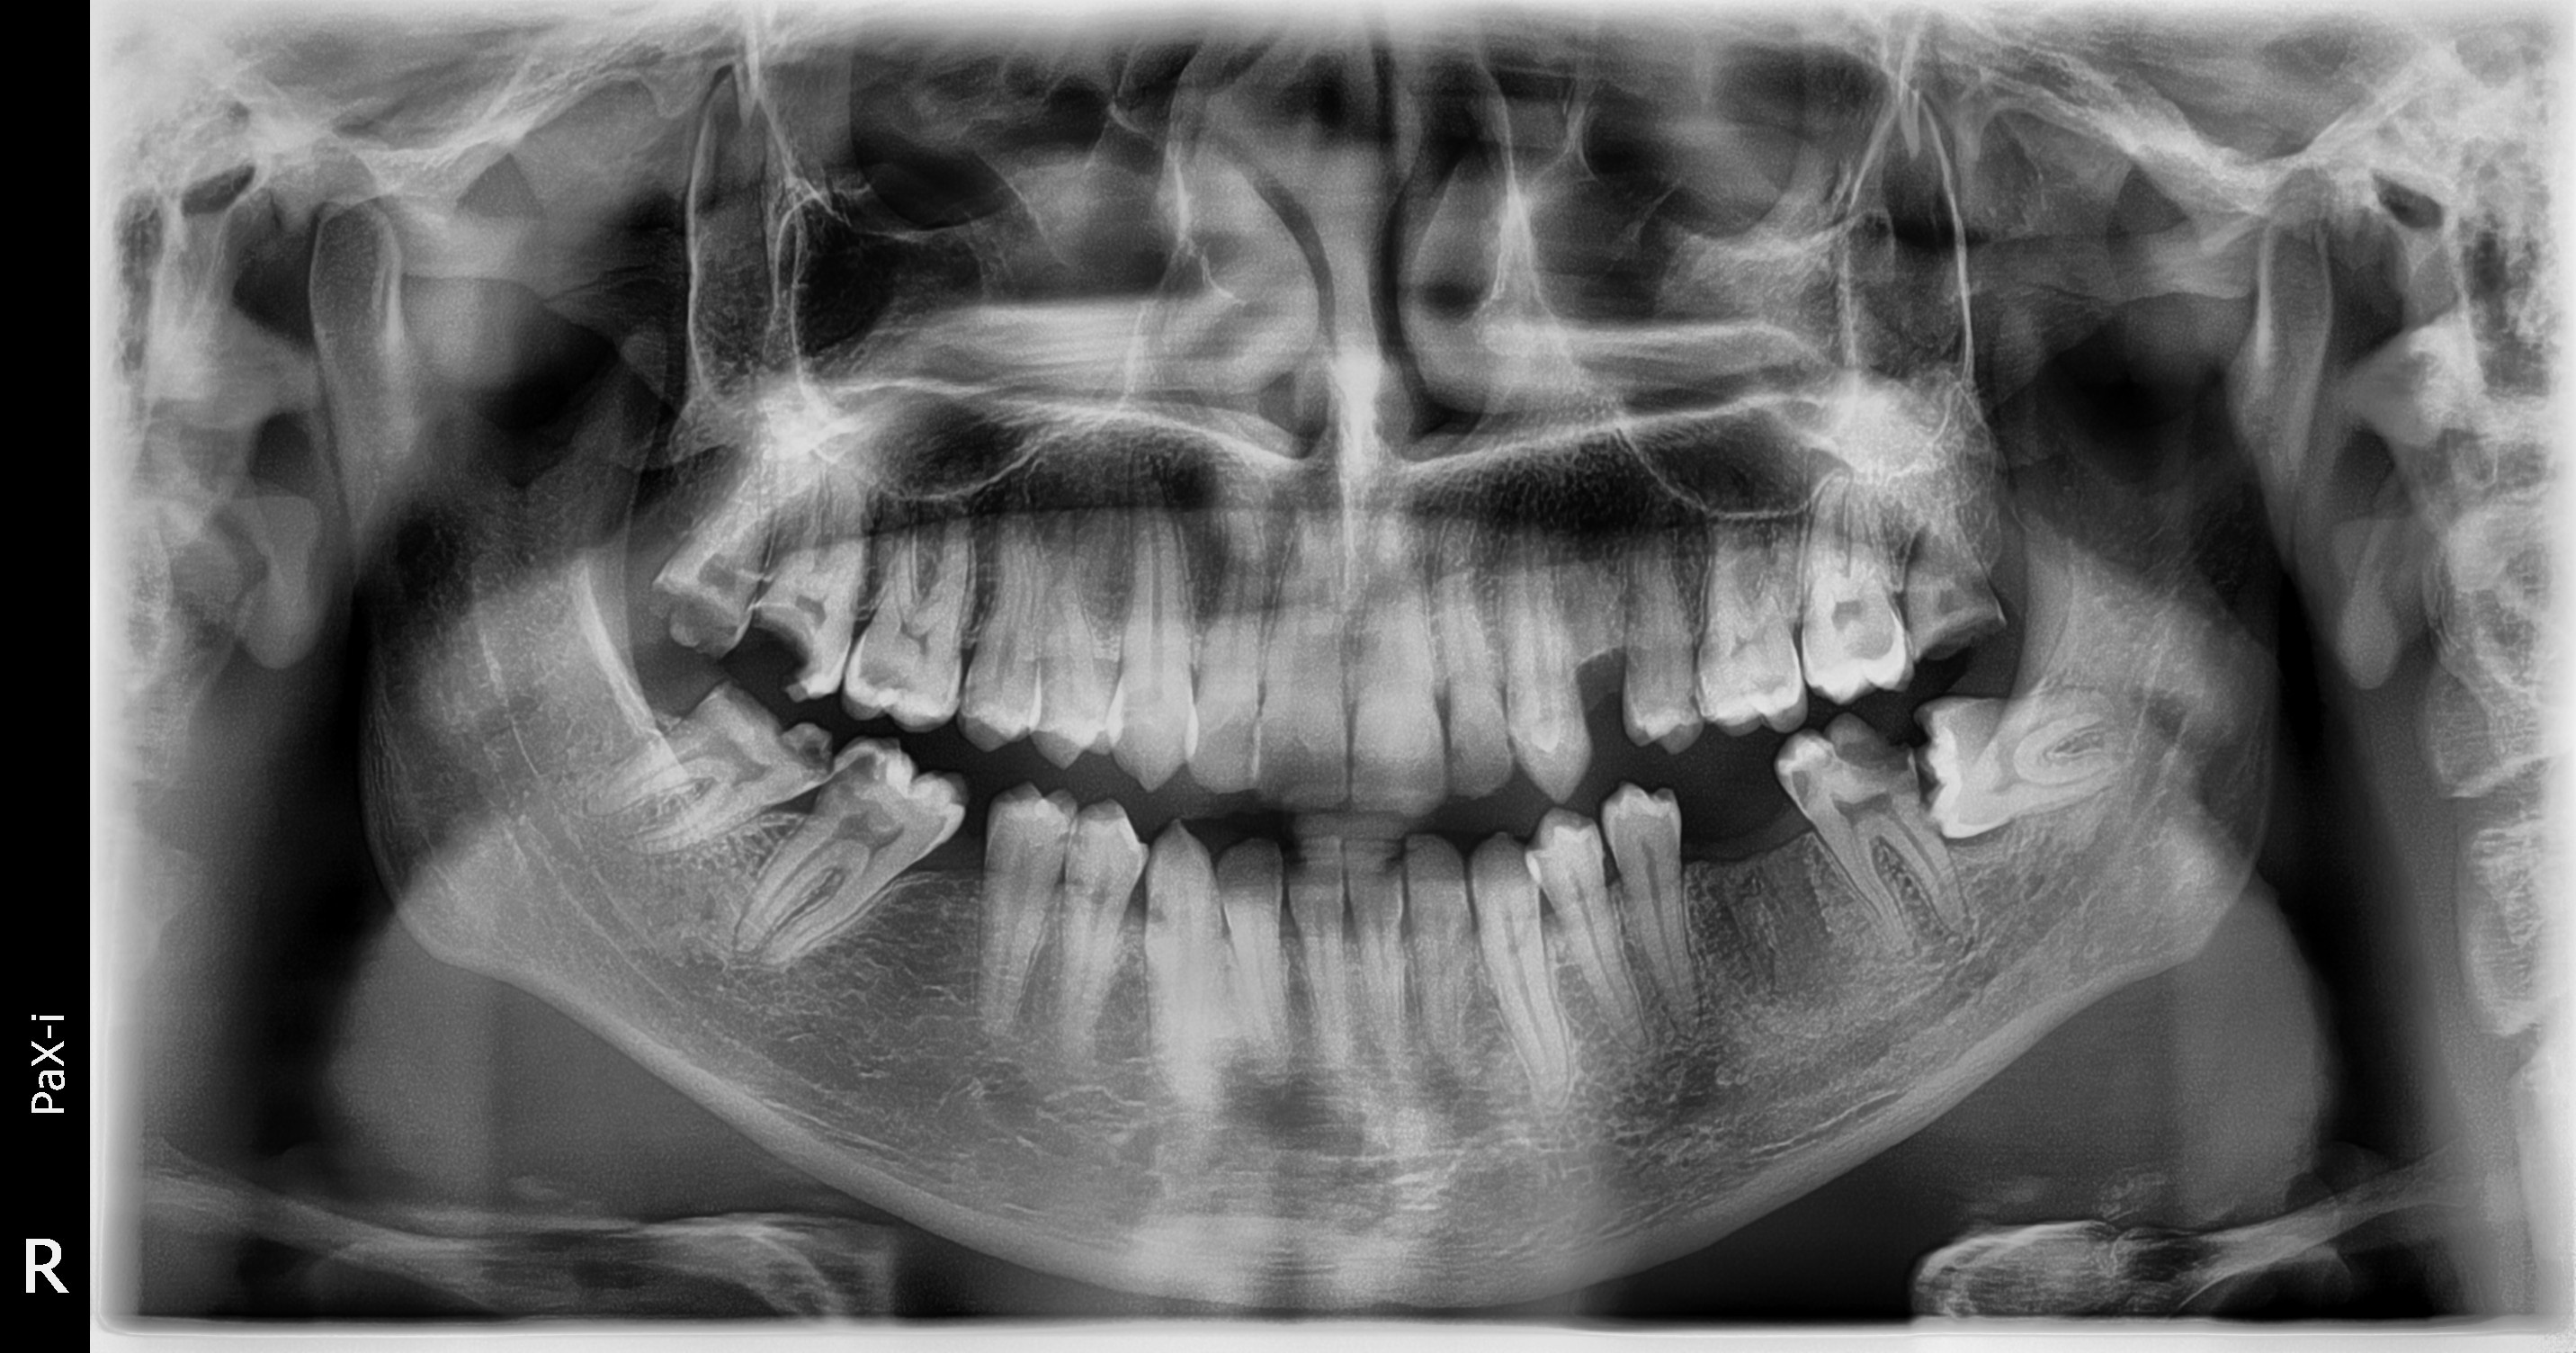CAR: (748, 591, 808, 709), (714, 690, 818, 757), (646, 578, 731, 651), (1833, 719, 1912, 792), (1934, 622, 2017, 663), (830, 746, 886, 797), (864, 649, 918, 700), (792, 736, 831, 787), (1780, 765, 1814, 815), (1748, 671, 1794, 704), (1685, 685, 1702, 741), (1070, 828, 1092, 861), (1150, 895, 1169, 927), (964, 685, 983, 717), (1445, 738, 1463, 769), (1353, 750, 1365, 775), (1056, 825, 1067, 849), (1070, 881, 1080, 900)
IMT: (1951, 695, 2140, 830)
